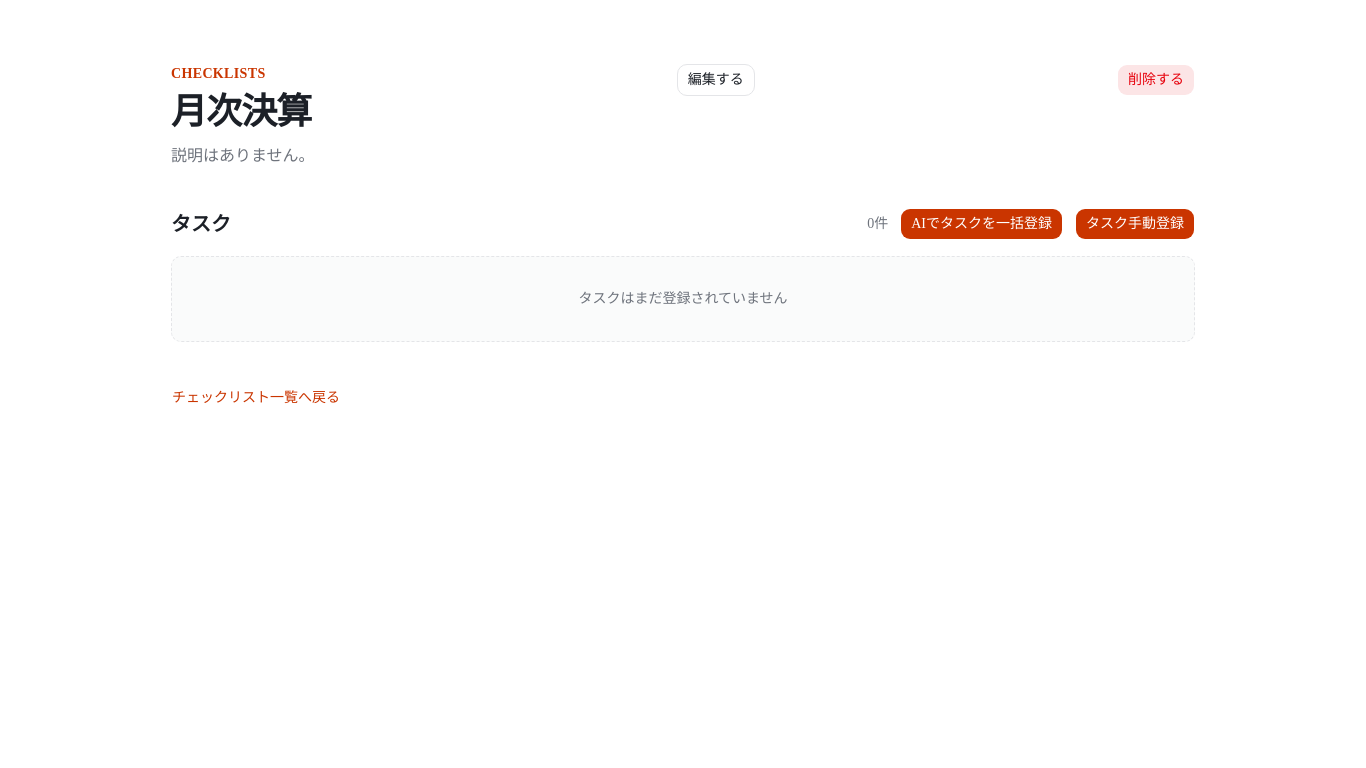
it: 作成後の再取得失敗はPOSTを再試行せず、一覧の再取得だけで復旧できる
Click the button "タスク手動登録": (1135, 224) [1075, 208, 1195, 240]
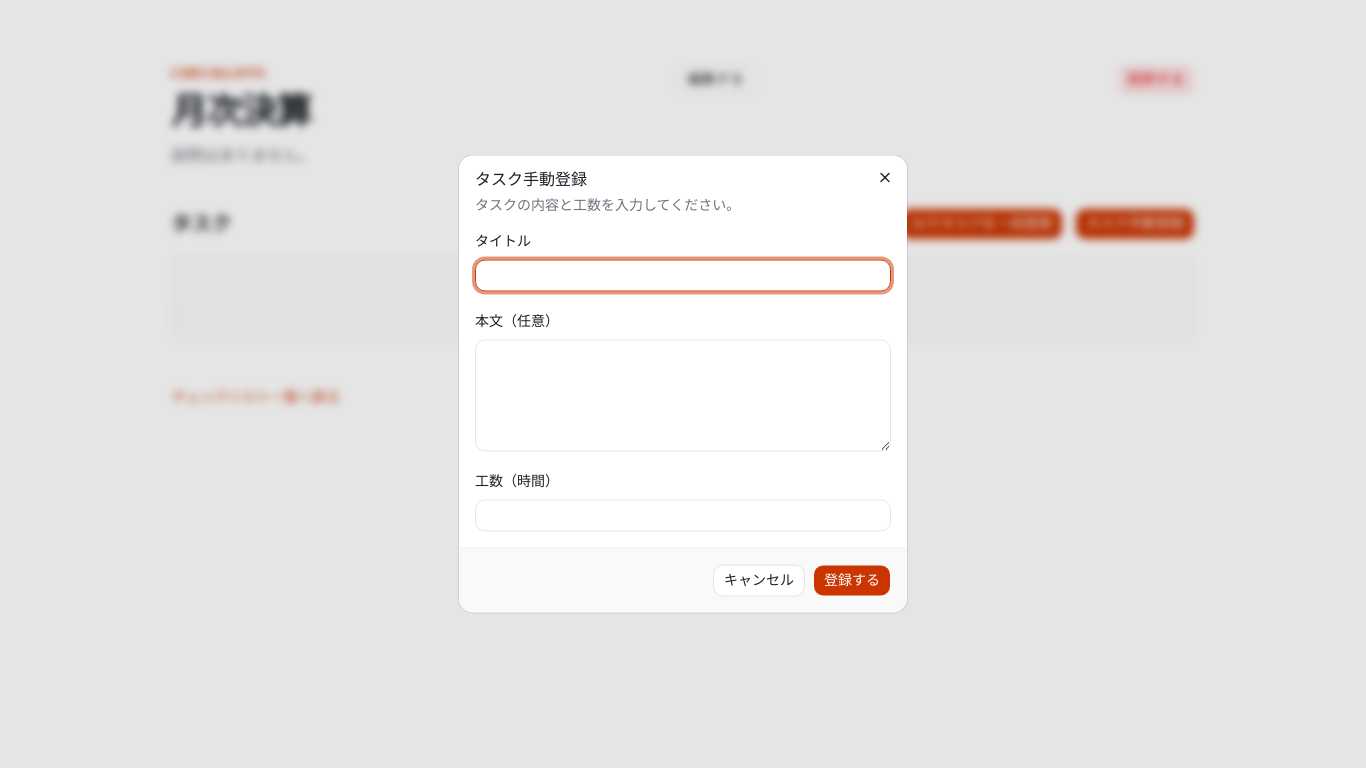
In the field labelled "タイトル": (683, 276) [475, 260, 891, 292], type "手動タスク"
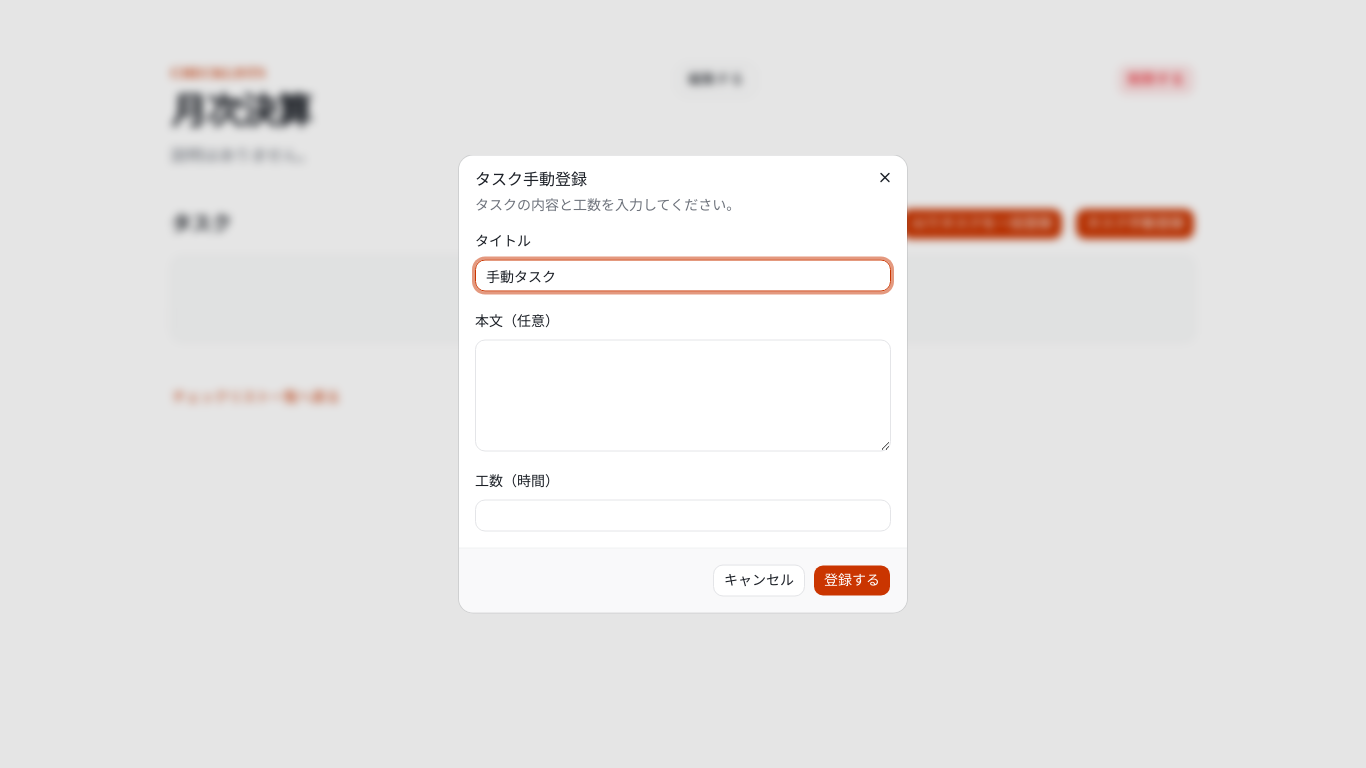
In the number field labelled "工数（時間）": (683, 516) [475, 500, 891, 532], type "0.5"
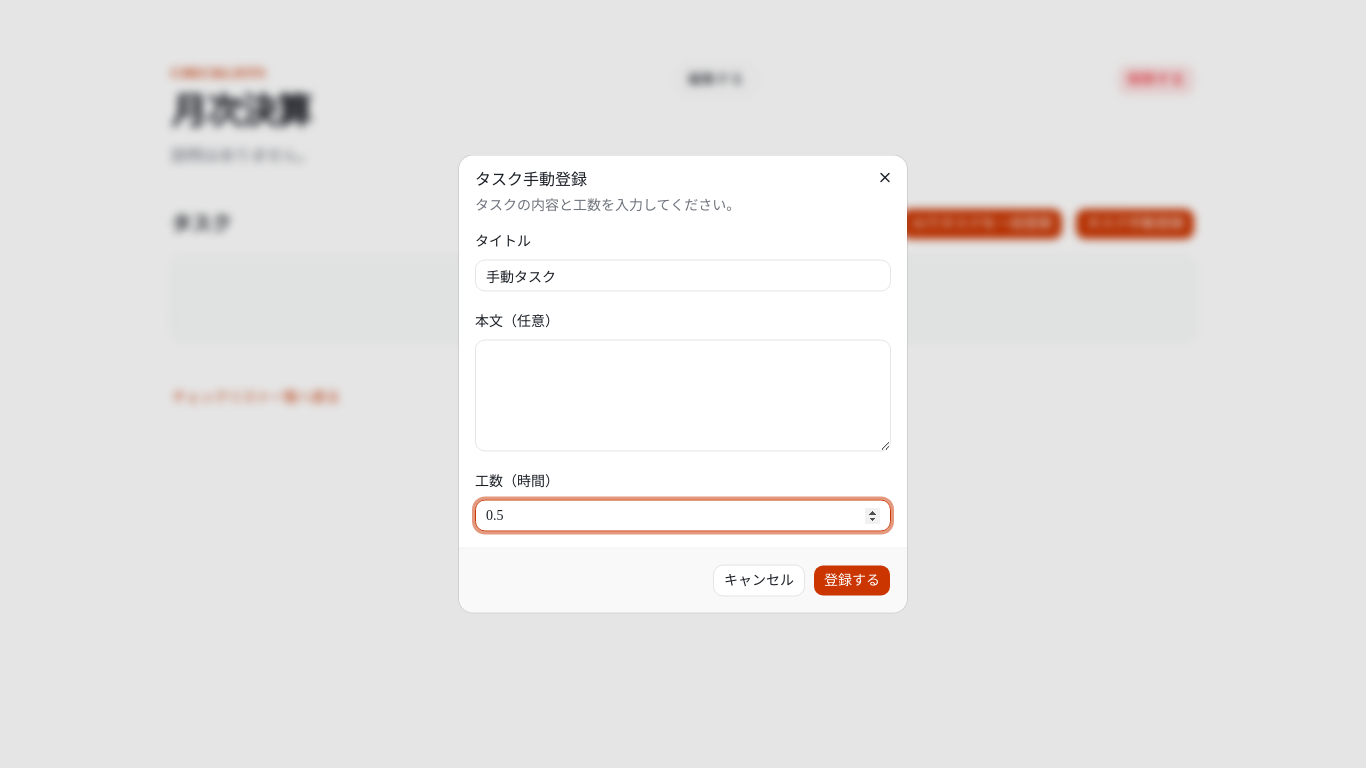
Click the button "登録する": (852, 580) [813, 564, 891, 596]
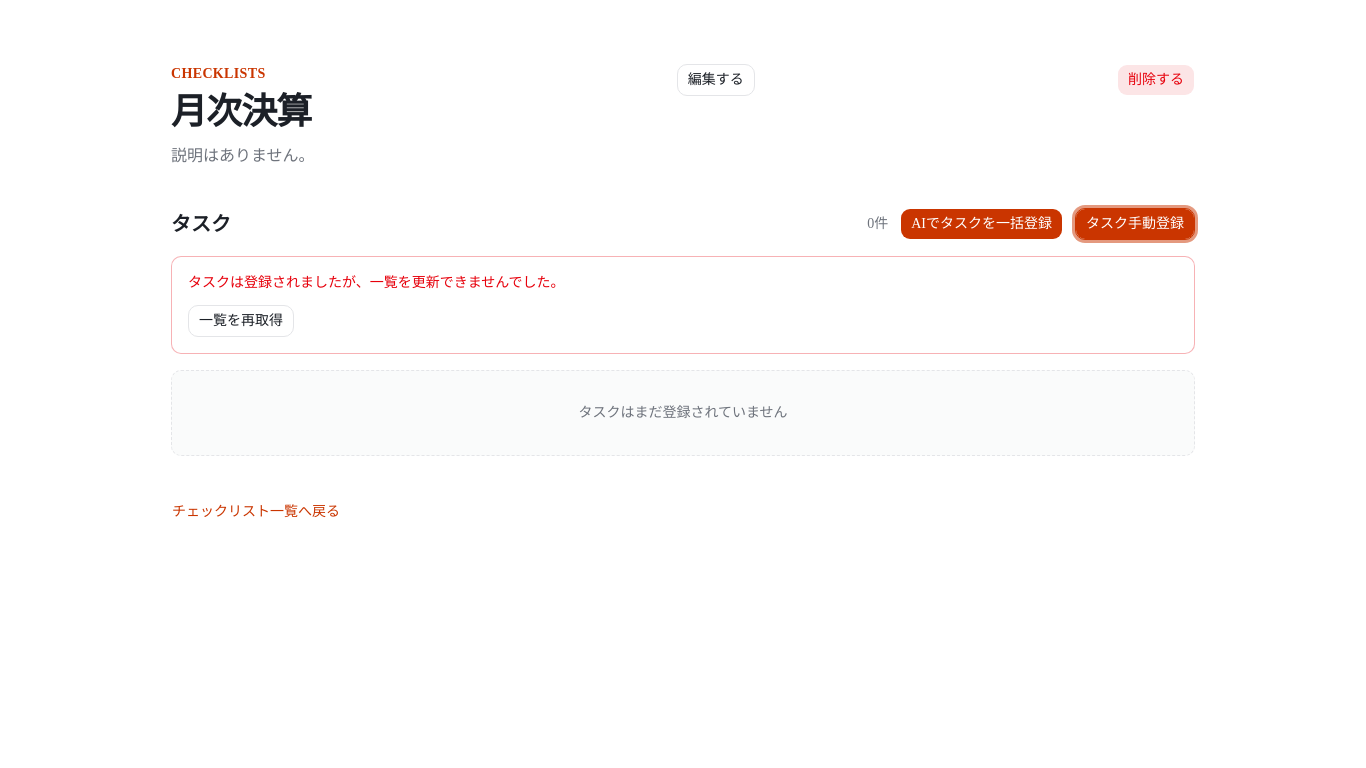
Now the message shows "タスクは登録されましたが、一覧を更新できませんでした。", box [188, 275, 565, 290]
Now the dialog is gone
Click the button "一覧を再取得": (241, 321) [188, 305, 294, 337]
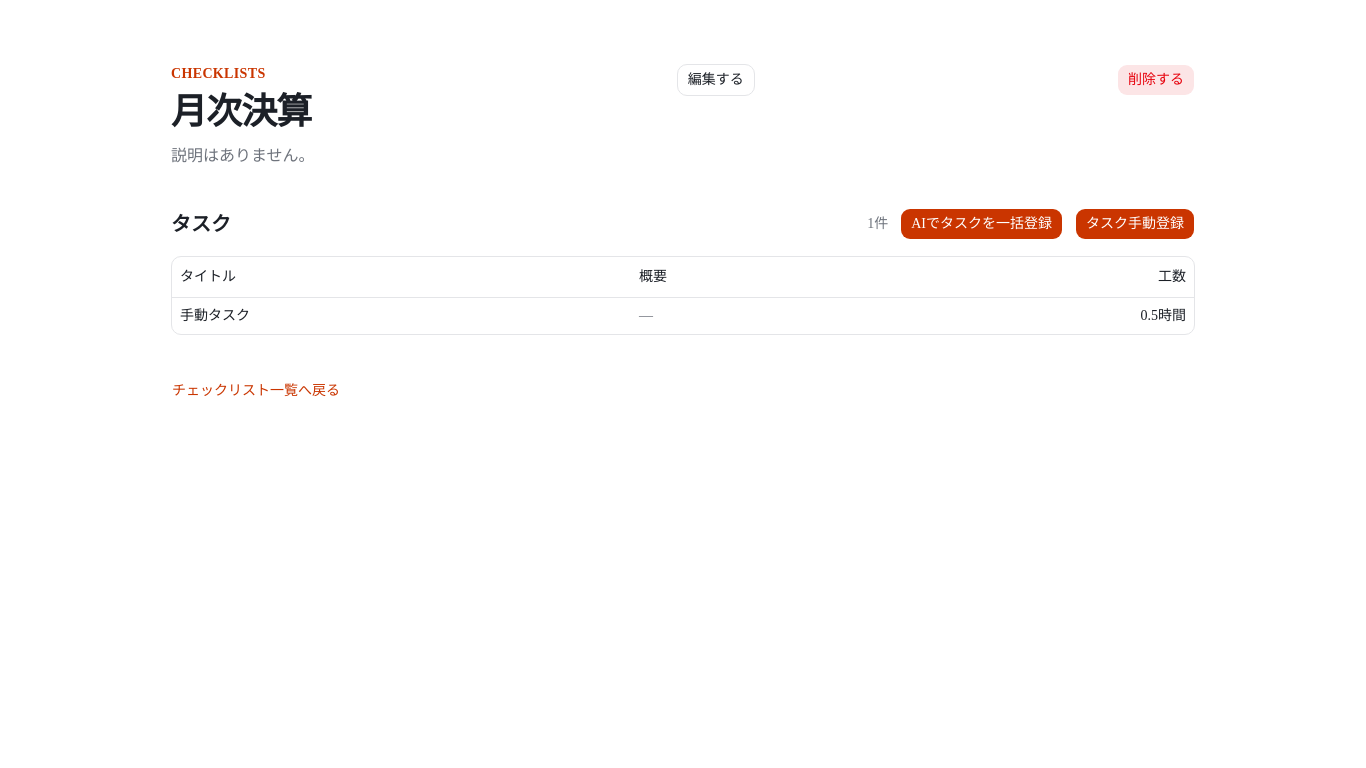
Now the link "手動タスク" is shown, box [180, 308, 250, 322]
